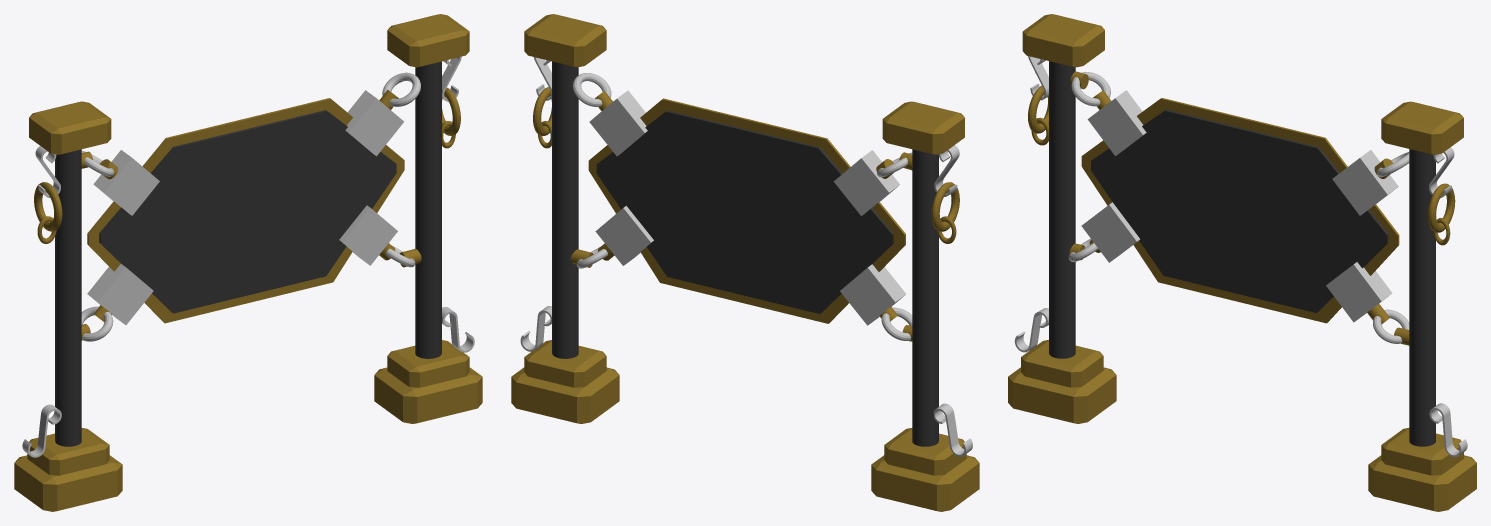
Rendered from cubeSign.fbx.
The picture shows the model from 3 angles, left to right: view 1: azimuth 30°, elevation 25°; view 2: azimuth 150°, elevation 25°; view 3: azimuth 330°, elevation 25°; orthographic projection.
Visible parts, largest first — view 1: Cube.197, Cylinder.109, Cylinder.110, Cube.198, Cube.196, Cube.192, Cube.204, Cube.203, Cube.191, Cube.195, Cube.201, Cube.199 (+5 smaller); view 2: Cube.197, Cylinder.109, Cylinder.110, Cube.198, Cube.192, Cube.196, Cube.204, Cube.203, Cube.191, Cube.195, Cube.201, Cube.202 (+6 smaller); view 3: Cube.197, Cylinder.110, Cylinder.109, Cube.198, Cube.196, Cube.192, Cube.204, Cube.203, Cube.195, Cube.191, Cube.199, Cube.200 (+6 smaller).
Boxes of the visible parts, x1=… form: Cube.197: x1=99, y1=110, x2=396, y2=313; Cylinder.109: x1=415, y1=61, x2=441, y2=358; Cylinder.110: x1=55, y1=149, x2=81, y2=446; Cube.198: x1=87, y1=98, x2=404, y2=323; Cube.196: x1=14, y1=455, x2=122, y2=511; Cube.192: x1=374, y1=367, x2=482, y2=423; Cube.204: x1=29, y1=101, x2=111, y2=154; Cube.203: x1=387, y1=14, x2=469, y2=67; Cube.191: x1=387, y1=340, x2=469, y2=387; Cube.195: x1=27, y1=428, x2=109, y2=475; Cube.201: x1=87, y1=264, x2=153, y2=324; Cube.199: x1=345, y1=90, x2=404, y2=156; Cube.197: x1=596, y1=110, x2=893, y2=313; Cylinder.109: x1=552, y1=61, x2=578, y2=358; Cylinder.110: x1=912, y1=149, x2=938, y2=446; Cube.198: x1=588, y1=98, x2=905, y2=323; Cube.192: x1=511, y1=367, x2=619, y2=423; Cube.196: x1=871, y1=455, x2=979, y2=511; Cube.204: x1=882, y1=101, x2=964, y2=154; Cube.203: x1=524, y1=14, x2=606, y2=67; Cube.191: x1=524, y1=340, x2=606, y2=387; Cube.195: x1=884, y1=428, x2=966, y2=475; Cube.201: x1=840, y1=264, x2=906, y2=325; Cube.202: x1=833, y1=150, x2=899, y2=215; Cube.197: x1=1091, y1=109, x2=1388, y2=312; Cylinder.110: x1=1049, y1=61, x2=1075, y2=358; Cylinder.109: x1=1409, y1=149, x2=1435, y2=446; Cube.198: x1=1081, y1=98, x2=1399, y2=323; Cube.196: x1=1008, y1=367, x2=1116, y2=423; Cube.192: x1=1368, y1=455, x2=1476, y2=511; Cube.204: x1=1022, y1=14, x2=1104, y2=67; Cube.203: x1=1381, y1=101, x2=1463, y2=154; Cube.195: x1=1021, y1=340, x2=1103, y2=387; Cube.191: x1=1381, y1=428, x2=1463, y2=475; Cube.199: x1=1332, y1=150, x2=1398, y2=215; Cube.200: x1=1326, y1=262, x2=1392, y2=322.
Bounding box in the file's own units: 1274 × 1033 × 187.
